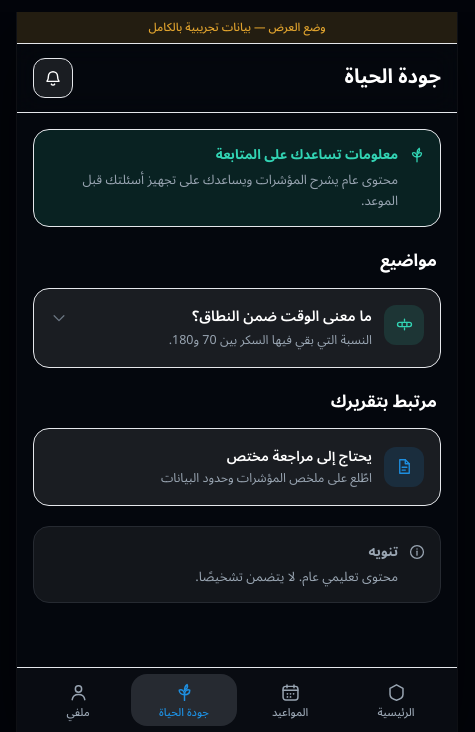
Test: honest states › shows the wellness disclaimer and sources
Check: the text "محتوى تعليمي عام. لا يتضمن تشخيصًا." is shown, box [195, 563, 398, 591]
Click the button "ما معنى الوقت ضمن النطاق" at (237, 328), box [34, 288, 440, 367]
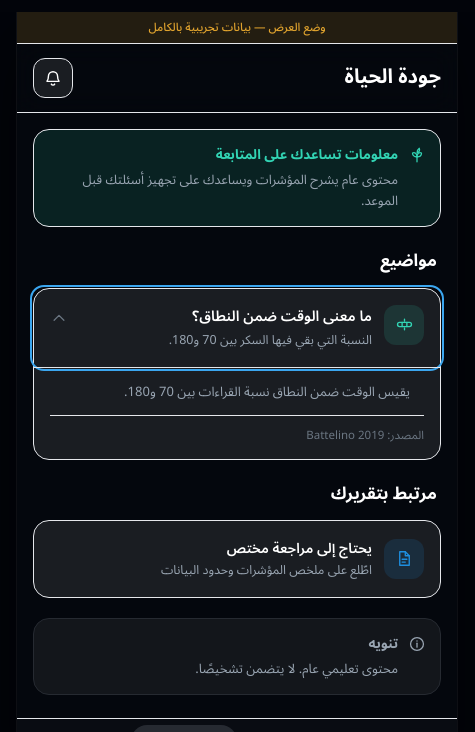
Check: the text "المصدر: Battelino 2019" is shown, box [50, 415, 424, 445]
